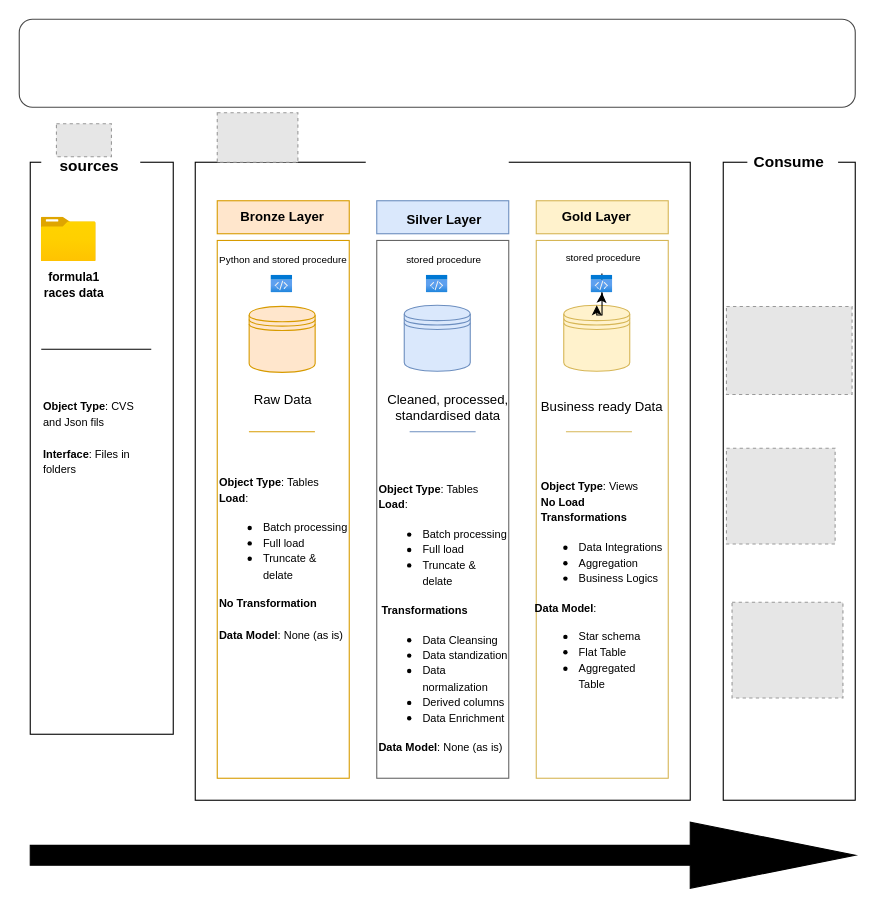
Some shapes in this 875 by 908 pixel diagram are drawn without their labels. Grey dashed boxes stand in for pictures. Here are the shapes that lost their labels. From the top down, the box of each, then its label:
(18, 18, 855, 107): High Level Architecture
(365, 140, 508, 206): Data Warehouse
